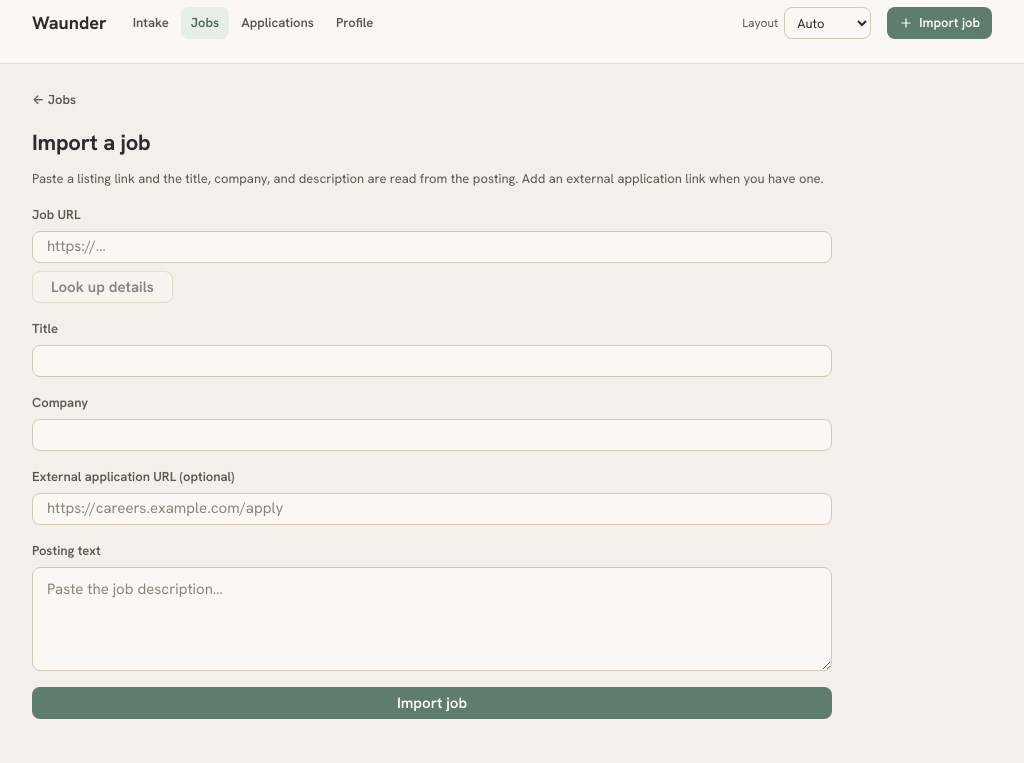
Test case: posting lookup › leaves the form empty and importable when Rails reports the posting unavailable
Type "https://careers.example.com/roles/9" into the field with class "manual-entry-url". click: point(432, 247)
box: top-left (32, 231), bottom-right (832, 263)
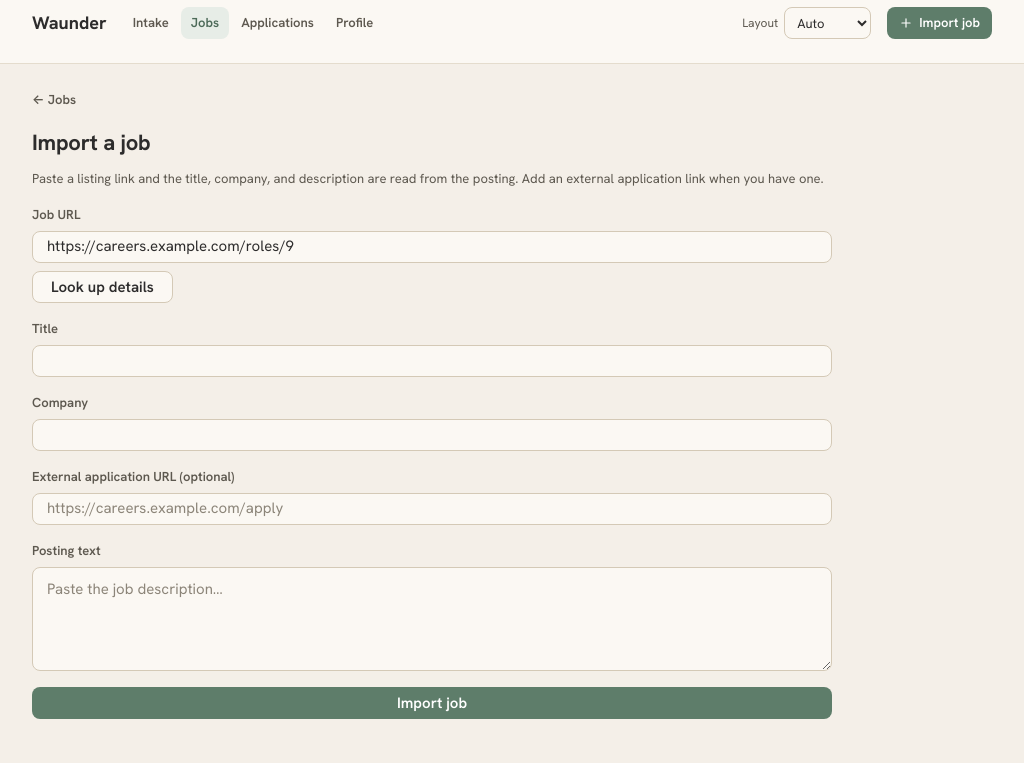
Leave the field with class "manual-entry-url", box top-left (32, 231), bottom-right (832, 263)
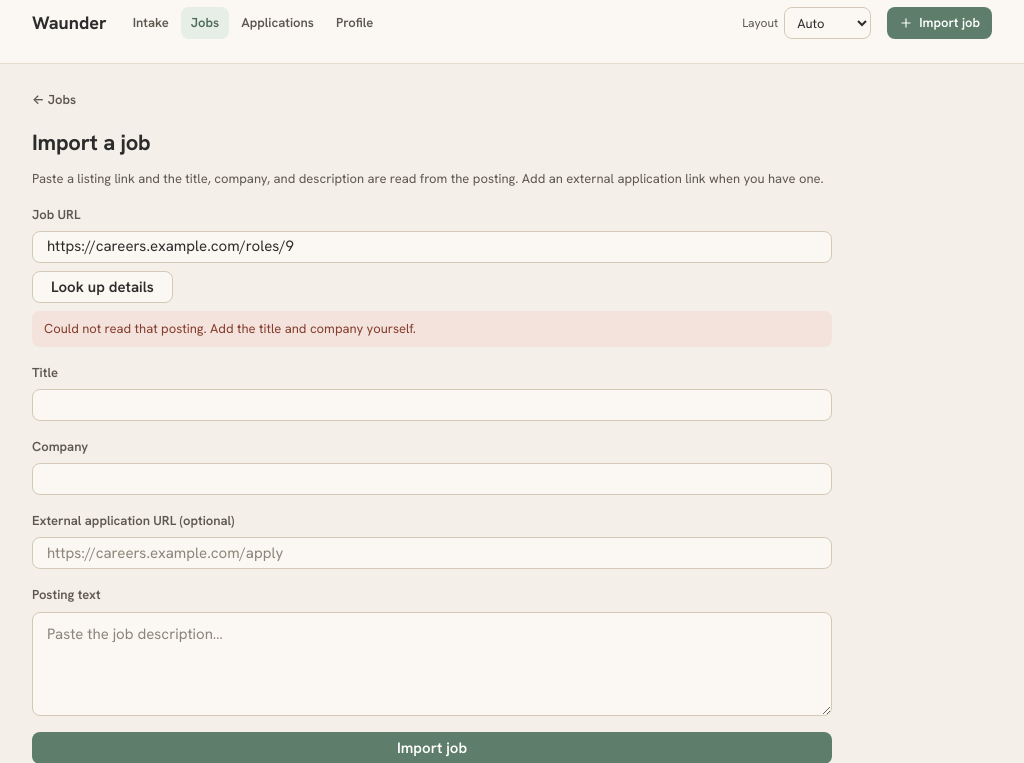
Check: the message "Could not read that posting. Add the title and company yourself." is shown, box top-left (32, 311), bottom-right (832, 347)
Click the button with class "manual-entry-submit". click: point(432, 748)
box: top-left (32, 732), bottom-right (832, 762)
(page scrolled)
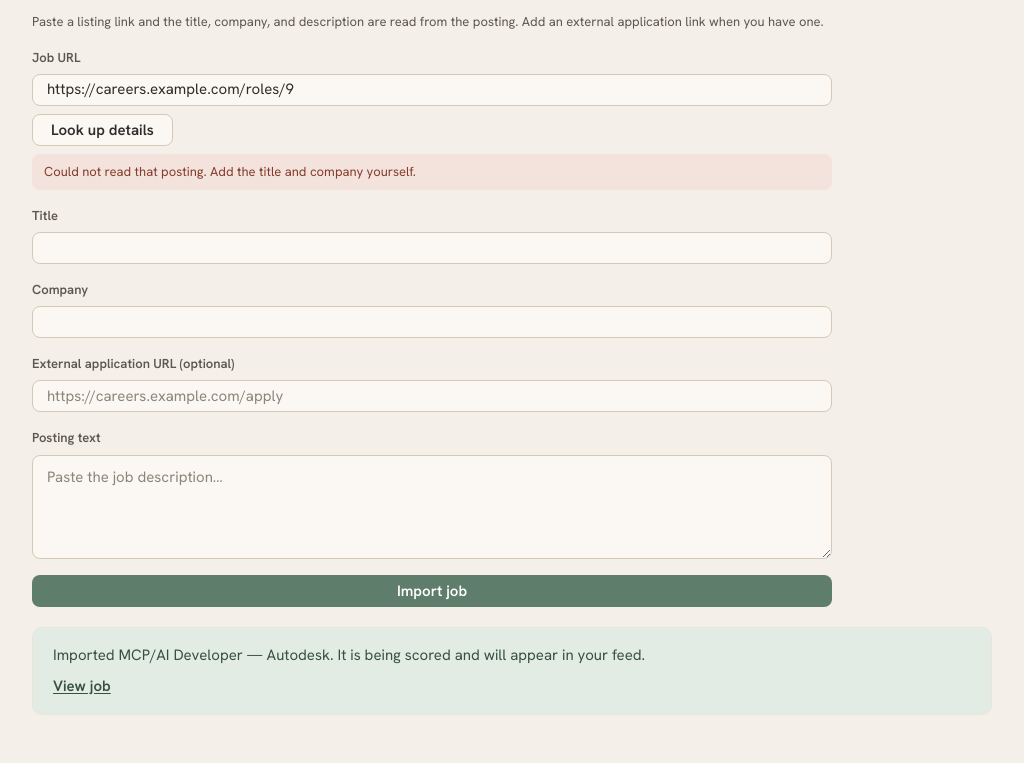
Check: the message with class "manual-entry-result" is shown, box top-left (32, 626), bottom-right (992, 715)
